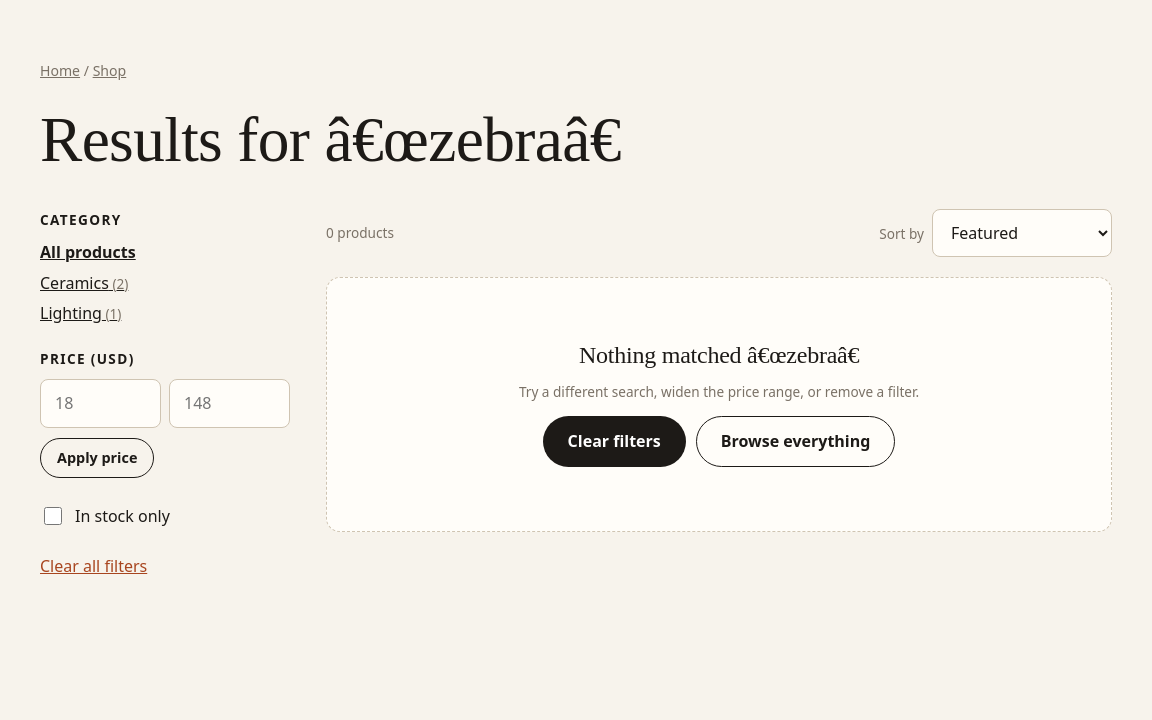
ShopPage › shows a helpful empty state and lets the shopper clear filters
Expected: the heading "Nothing matched â€œzebraâ€ " is shown, [579, 342, 859, 368]
Click the button "Clear filters".
click(614, 441)  # box [543, 416, 686, 467]
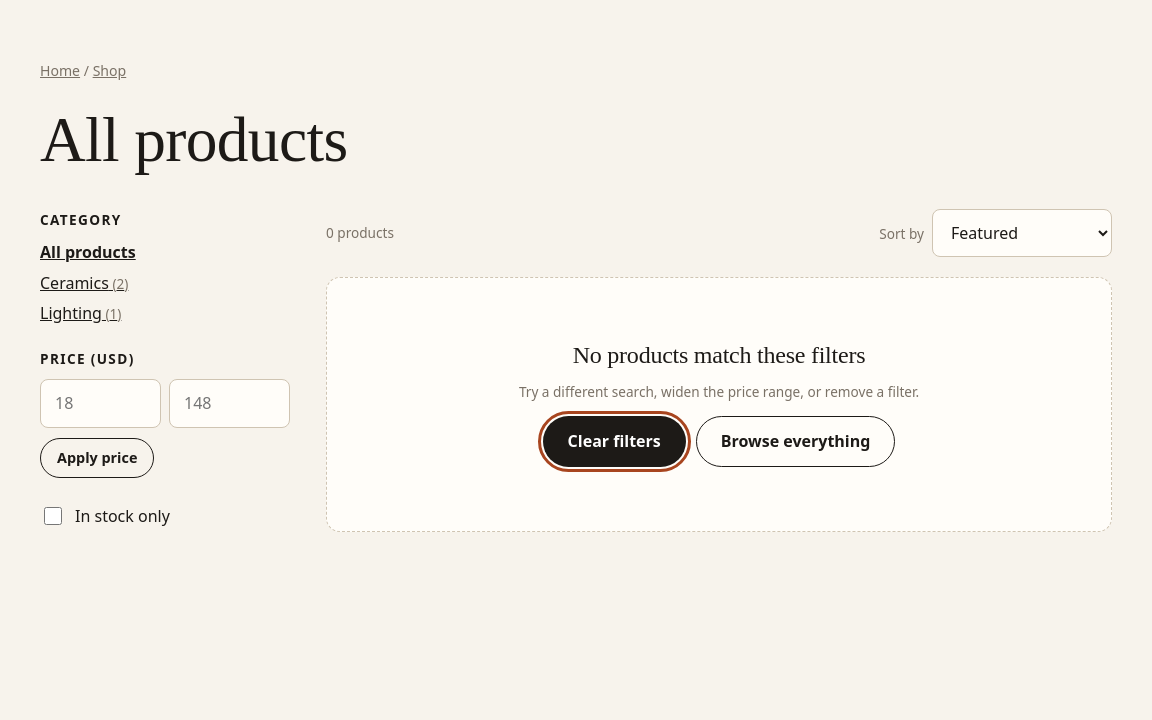
Expected: the heading "Nothing matched" is gone
